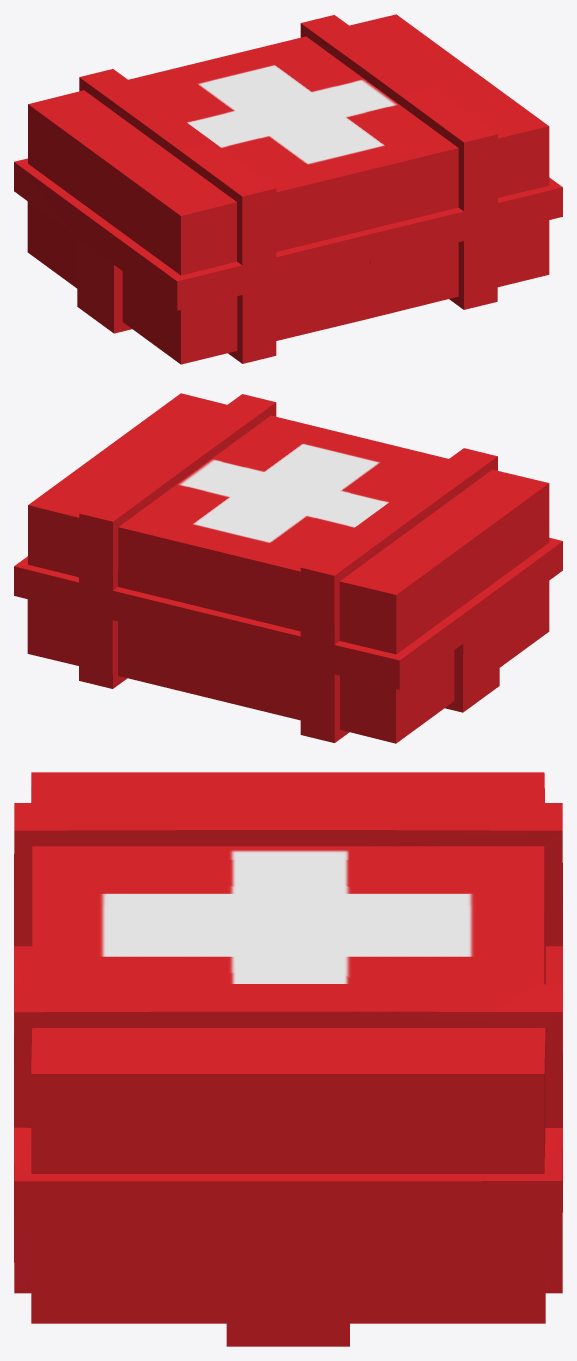
File: Healkit.FBX
3 views of the same model, one above another, from view 1: azimuth 30°, elevation 25°; view 2: azimuth 150°, elevation 25°; view 3: azimuth 270°, elevation 25° (orthographic). The views are drawn at different scales.
Parts seen in each view (by area): view 1: heelpacks; view 2: heelpacks; view 3: heelpacks.
Part boxes in pixels (x1=…): heelpacks: x1=14, y1=14, x2=562, y2=364; heelpacks: x1=14, y1=393, x2=562, y2=743; heelpacks: x1=14, y1=772, x2=562, y2=1346.
Bounding box in the file's own units: 37.81 × 27.73 × 15.7.
